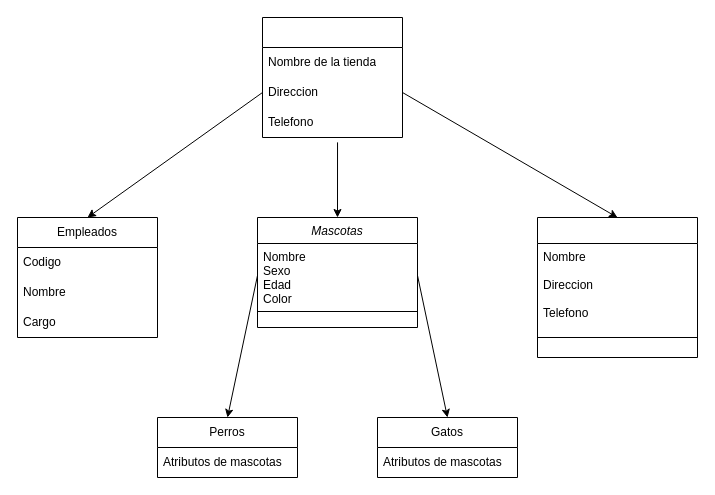
Some shapes in this 715 by 495 pixel diagram are drawn without their labels. Each missing label, with the box of its shape:
Cliente: (536, 216, 698, 358)
Tienda de mascotas: (262, 16, 402, 138)
